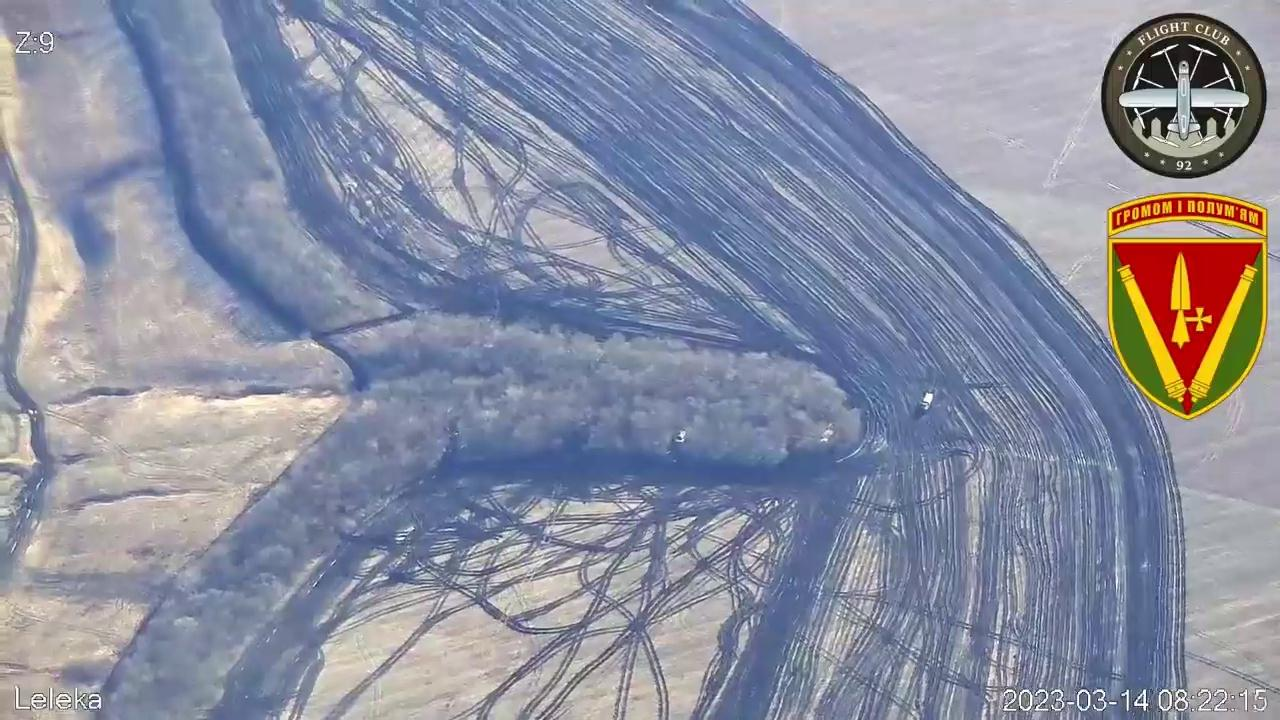vehicle: (674, 429, 688, 443), (924, 392, 932, 411)
